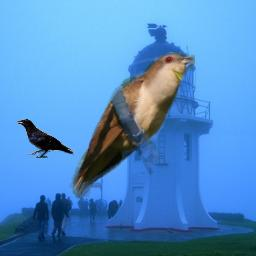Crow: (17, 119, 74, 158)
Cuckoo: (67, 52, 195, 202)
